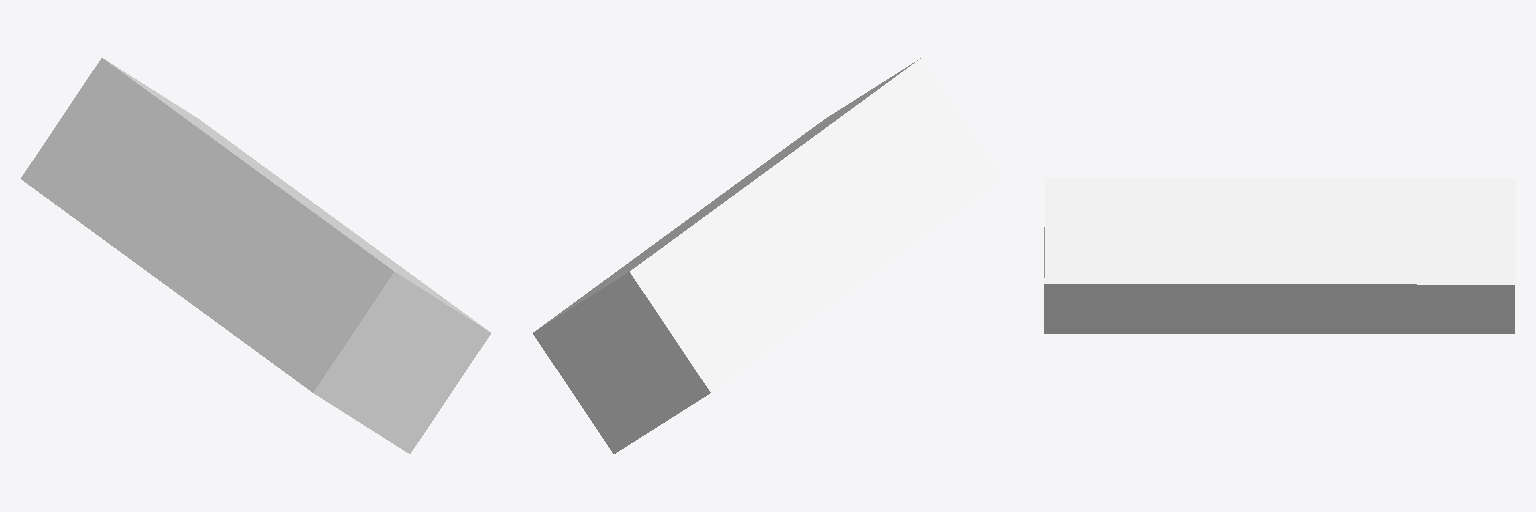
URDF robot description (mobile_manipulator2):
<?xml version="1.0" ?>
<!-- =================================================================================== -->
<!-- |    This document was autogenerated by xacro from urdf/mobile_manipulator2_description.xacro | -->
<!-- |    EDITING THIS FILE BY HAND IS NOT RECOMMENDED                                 | -->
<!-- =================================================================================== -->
<robot name="mobile_manipulator2">
  <link name="base_link">
    <inertial>
      <origin rpy="0 0 0" xyz="-0.0312209606413168 -1.37168643094102E-05 -0.0624311561488474"/>
      <mass value="3.66600808570302"/>
      <inertia ixx="0.070830972506108" ixy="0.000423733904503755" ixz="-0.0004402307499561" iyy="0.0538747474413543" iyz="0.000250637811260168" izz="0.118808674602765"/>
    </inertial>
    <visual>
      <origin rpy="0 0 0" xyz="0 0 0"/>
      <geometry>
        <mesh filename="package://mobile_manipulator2_description/meshes/visual/chassis_base_link.STL"/>
      </geometry>
      <material name="">
        <color rgba="1 1 1 1"/>
      </material>
    </visual>
    <collision>
      <origin rpy="0 0 0" xyz="0 0 0"/>
      <geometry>
        <mesh filename="package://mobile_manipulator2_description/meshes/collision/chassis_base_link_collision.STL"/>
      </geometry>
    </collision>
  </link>
  <link name="box_link">
    <inertial>
      <origin rpy="0 0 0" xyz="-0.0336792278049677 -0.00458080590131121 0.046046222818299"/>
      <mass value="1.96086062558564"/>
      <inertia ixx="0.00861532872920901" ixy="-0.000126429659448238" ixz="-4.57098901476866E-05" iyy="0.0243467421162108" iyz="-2.86453497285015E-05" izz="0.0322309365376531"/>
    </inertial>
    <visual>
      <origin rpy="0 0 0" xyz="0 0 0"/>
      <geometry>
        <mesh filename="package://mobile_manipulator2_description/meshes/visual/box_link.STL"/>
      </geometry>
      <material name="">
        <color rgba="1 1 1 1"/>
      </material>
    </visual>
    <collision>
      <origin rpy="0 0 0" xyz="0 0 0"/>
      <geometry>
        <mesh filename="package://mobile_manipulator2_description/meshes/collision/box_link_collision.STL"/>
      </geometry>
    </collision>
  </link>
  <joint name="box_joint" type="fixed">
    <origin rpy="0 0 0" xyz="0 0 0"/>
    <parent link="base_link"/>
    <child link="box_link"/>
    <axis xyz="0 0 0"/>
  </joint>
  <link name="lifting_link">
    <inertial>
      <origin rpy="0 0 0" xyz="-0.0645758262218638 3.1034672673273E-05 0.590832686497018"/>
      <mass value="1.28345031134681"/>
      <inertia ixx="0.0137761443631695" ixy="-2.91078208048479E-07" ixz="-0.000720021739199037" iyy="0.00882953168919407" iyz="7.87382666162099E-08" izz="0.00591609424737705"/>
    </inertial>
    <visual>
      <origin rpy="0 0 0" xyz="0 0 0"/>
      <geometry>
        <mesh filename="package://mobile_manipulator2_description/meshes/visual/lifting_link.STL"/>
      </geometry>
      <material name="">
        <color rgba="0.792156862745098 0.819607843137255 0.933333333333333 1"/>
      </material>
    </visual>
    <collision>
      <origin rpy="0 0 0" xyz="0 0 0"/>
      <geometry>
        <mesh filename="package://mobile_manipulator2_description/meshes/collision/lifting_link_collision.STL"/>
      </geometry>
    </collision>
  </link>
  <joint name="lifting_joint" type="fixed">
    <origin rpy="0 0 0" xyz="-0.24269 0 0.022"/>
    <parent link="box_link"/>
    <child link="lifting_link"/>
    <axis xyz="0 0 0"/>
  </joint>
  <link name="top_camera_link">
    <inertial>
      <origin rpy="0 0 0" xyz="0.0081944 0.00022525 0.00024018"/>
      <mass value="0.028999"/>
      <inertia ixx="3.8589E-05" ixy="-1.3619E-08" ixz="-2.6151E-08" iyy="3.7635E-06" iyz="2.7688E-08" izz="3.7044E-05"/>
    </inertial>
    <visual>
      <origin rpy="0 0 0" xyz="0 0 0"/>
      <geometry>
        <mesh filename="package://mobile_manipulator2_description/meshes/visual/top_camera_link.STL"/>
      </geometry>
      <material name="">
        <color rgba="1 1 1 1"/>
      </material>
    </visual>
    <collision>
      <origin rpy="0 0 0" xyz="0 0 0"/>
      <geometry>
        <mesh filename="package://mobile_manipulator2_description/meshes/collision/top_camera_link_collision.STL"/>
      </geometry>
    </collision>
  </link>
  <joint name="top_camera_joint" type="fixed">
    <origin rpy="0 0 0" xyz="0.056999999999981 0 0.569500339851353"/>
    <parent link="lifting_link"/>
    <child link="top_camera_link"/>
    <axis xyz="0 0 0"/>
  </joint>
  <link name="lidar_link">
    <inertial>
      <origin rpy="0 0 0" xyz="-0.010562 -0.00043095 0.033917"/>
      <mass value="0.11388"/>
      <inertia ixx="0.0001253" ixy="1.1158E-07" ixz="3.3459E-07" iyy="0.00012408" iyz="-2.6657E-08" izz="0.00019563"/>
    </inertial>
    <visual>
      <origin rpy="0 0 0" xyz="0 0 0"/>
      <geometry>
        <mesh filename="package://mobile_manipulator2_description/meshes/visual/lidar_link.STL"/>
      </geometry>
      <material name="">
        <color rgba="0.78824 0.81961 0.92941 1"/>
      </material>
    </visual>
    <collision>
      <origin rpy="0 0 0" xyz="0 0 0"/>
      <geometry>
        <mesh filename="package://mobile_manipulator2_description/meshes/collision/lidar_link_collision.STL"/>
      </geometry>
    </collision>
  </link>
  <joint name="lidar_joint" type="fixed">
    <origin rpy="0 0 0" xyz="0.27254 0.00035292 0.0315"/>
    <parent link="base_link"/>
    <child link="lidar_link"/>
    <axis xyz="0 0 0"/>
  </joint>
  <link name="chassis_camera_link">
    <inertial>
      <origin rpy="0 0 0" xyz="0.0088456 0.00020043 0.1203575"/>
      <mass value="0.055353"/>
      <inertia ixx="4.2284E-05" ixy="2.4484E-07" ixz="-6.627E-08" iyy="4.8492E-06" iyz="-2.9109E-09" izz="4.2122E-05"/>
    </inertial>
    <visual>
      <origin rpy="0 0 0" xyz="0 0 0"/>
      <geometry>
        <mesh filename="package://mobile_manipulator2_description/meshes/visual/chassis_camera_link.STL"/>
      </geometry>
      <material name="">
        <color rgba="1 1 1 1"/>
      </material>
    </visual>
    <collision>
      <origin rpy="0 0 0" xyz="0 0 0"/>
      <geometry>
        <mesh filename="package://mobile_manipulator2_description/meshes/collision/chassis_camera_link_collision.STL"/>
      </geometry>
    </collision>
  </link>
  <joint name="chassis_camera_joint" type="fixed">
    <origin rpy="0 0 0" xyz="0.025 0 0.1"/>
    <parent link="lidar_link"/>
    <child link="chassis_camera_link"/>
    <axis xyz="0 0 0"/>
  </joint>
  <link name="arm_base">
    <inertial>
      <origin rpy="0 0 0" xyz="-0.00979274765955341 1.82905827587138E-06 0.0410100126360189"/>
      <mass value="0.162548567403693"/>
      <inertia ixx="0.000226596924525071" ixy="-7.33972270153965E-08" ixz="2.13249977802622E-06" iyy="0.000269444772561524" iyz="8.15169009611054E-09" izz="0.000222318258878636"/>
    </inertial>
    <visual>
      <origin rpy="0 0 0" xyz="0 0 0"/>
      <geometry>
        <mesh filename="package://mobile_manipulator2_description/meshes/visual/dae/piper_base_link.dae"/>
      </geometry>
      <material name="">
        <color rgba="0.792156862745098 0.819607843137255 0.933333333333333 1"/>
      </material>
    </visual>
    <collision>
      <origin rpy="0 0 0" xyz="0 0 0"/>
      <geometry>
        <mesh filename="package://mobile_manipulator2_description/meshes/collision/piper_base_link_collision.STL"/>
      </geometry>
    </collision>
  </link>
  <link name="link1">
    <inertial>
      <origin rpy="0 0 0" xyz="0.00131676031927024 0.000310288842008612 -0.00922874512303437"/>
      <mass value="0.0978679932242825"/>
      <inertia ixx="7.76684558296782E-05" ixy="1.09084650459924E-07" ixz="-1.9748053243241E-06" iyy="9.24967780161547E-05" iyz="9.91284646834582E-07" izz="8.24589062407807E-05"/>
    </inertial>
    <visual>
      <origin rpy="0 0 0" xyz="0 0 0"/>
      <geometry>
        <mesh filename="package://mobile_manipulator2_description/meshes/visual/dae/piper_link1.dae"/>
      </geometry>
      <material name="">
        <color rgba="0.792156862745098 0.819607843137255 0.933333333333333 1"/>
      </material>
    </visual>
    <collision>
      <origin rpy="0 0 1.5708" xyz="0 0 0"/>
      <geometry>
        <mesh filename="package://mobile_manipulator2_description/meshes/collision/piper_link1_collision.STL"/>
      </geometry>
    </collision>
  </link>
  <joint name="joint1" type="revolute">
    <origin rpy="0 0 -1.5708" xyz="0 0 0.123"/>
    <parent link="arm_base"/>
    <child link="link1"/>
    <axis xyz="0 0 1"/>
    <limit effort="100" lower="-2.687" upper="2.687" velocity="3.142"/>
  </joint>
  <link name="link2">
    <inertial>
      <origin rpy="0 0 0" xyz="0.148793602378802 -0.00242026983944119 0.00175154638467948"/>
      <mass value="0.290888938633388"/>
      <inertia ixx="0.000148959640166183" ixy="-7.37750384371657E-05" ixz="-9.68688405196236E-07" iyy="0.00172800946632652" iyz="-1.09692225564224E-06" izz="0.0017754628344594"/>
    </inertial>
    <visual>
      <origin rpy="0 0 0" xyz="0 0 0"/>
      <geometry>
        <mesh filename="package://mobile_manipulator2_description/meshes/visual/dae/piper_link2.dae"/>
      </geometry>
      <material name="">
        <color rgba="0.792156862745098 0.819607843137255 0.933333333333333 1"/>
      </material>
    </visual>
    <collision>
      <origin rpy="0 0 0.1" xyz="0 0 0"/>
      <geometry>
        <mesh filename="package://mobile_manipulator2_description/meshes/collision/piper_link2_collision.STL"/>
      </geometry>
    </collision>
  </link>
  <joint name="joint2" type="revolute">
    <origin rpy="1.5708 -0.034907 -1.5708" xyz="0 0 0"/>
    <parent link="link1"/>
    <child link="link2"/>
    <axis xyz="0 0 1"/>
    <limit effort="100" lower="0" upper="3.403" velocity="3.403"/>
  </joint>
  <link name="link3">
    <inertial>
      <origin rpy="0 0 0" xyz="-0.0996835215213704 0.0349477226691318 0.000508025815507312"/>
      <mass value="0.290847697793211"/>
      <inertia ixx="0.000107879011637167" ixy="2.92669521203626E-05" ixz="6.825922326238E-07" iyy="0.000214751671792086" iyz="-7.78469047878196E-07" izz="0.000241923439340319"/>
    </inertial>
    <visual>
      <origin rpy="0 0 0" xyz="0 0 0"/>
      <geometry>
        <mesh filename="package://mobile_manipulator2_description/meshes/visual/dae/piper_link3.dae"/>
      </geometry>
      <material name="">
        <color rgba="0.792156862745098 0.819607843137255 0.933333333333333 1"/>
      </material>
    </visual>
    <collision>
      <origin rpy="0 0 -1.75" xyz="0 0 0"/>
      <geometry>
        <mesh filename="package://mobile_manipulator2_description/meshes/collision/piper_link3_collision.STL"/>
      </geometry>
    </collision>
  </link>
  <joint name="joint3" type="revolute">
    <origin rpy="0 0 0.06604341" xyz="0.28358 0.028726 0"/>
    <parent link="link2"/>
    <child link="link3"/>
    <axis xyz="0 0 1"/>
    <limit effort="100" lower="-3.054" upper="0" velocity="3.142"/>
  </joint>
  <link name="link4">
    <inertial>
      <origin rpy="0 0 0" xyz="0.000276464622387979 -0.00102803669324875 -0.00472830700561663"/>
      <mass value="0.127087348341362"/>
      <inertia ixx="3.82011730423416E-05" ixy="-4.92358350897513E-08" ixz="4.89589432973119E-08" iyy="4.87048555222578E-05" iyz="6.70802942500512E-08" izz="4.10592077565559E-05"/>
    </inertial>
    <visual>
      <origin rpy="0 0 0" xyz="0 0 0"/>
      <geometry>
        <mesh filename="package://mobile_manipulator2_description/meshes/visual/dae/piper_link4.dae"/>
      </geometry>
      <material name="">
        <color rgba="0.792156862745098 0.819607843137255 0.933333333333333 1"/>
      </material>
    </visual>
    <collision>
      <origin rpy="0 0 0" xyz="0 0 0"/>
      <geometry>
        <mesh filename="package://mobile_manipulator2_description/meshes/collision/piper_link4_collision.STL"/>
      </geometry>
    </collision>
  </link>
  <joint name="joint4" type="revolute">
    <origin rpy="-1.5708 0 1.3826" xyz="-0.24221 0.068514 0"/>
    <parent link="link3"/>
    <child link="link4"/>
    <axis xyz="0 0 1"/>
    <limit effort="100" lower="-1.780" upper="1.780" velocity="3.927"/>
  </joint>
  <link name="link5">
    <inertial>
      <origin rpy="0 0 0" xyz="8.82262433516967E-05 0.0566829014808256 -0.00196119720482461"/>
      <mass value="0.144711242639457"/>
      <inertia ixx="4.39644313662493E-05" ixy="-3.59259686444846E-08" ixz="-1.89747741386183E-08" iyy="5.63173920951307E-05" iyz="-2.1540716689785E-07" izz="4.88713664675268E-05"/>
    </inertial>
    <visual>
      <origin rpy="0 0 0" xyz="0 0 0"/>
      <geometry>
        <mesh filename="package://mobile_manipulator2_description/meshes/visual/dae/piper_link5.dae"/>
      </geometry>
      <material name="">
        <color rgba="0.792156862745098 0.819607843137255 0.933333333333333 1"/>
      </material>
    </visual>
    <collision>
      <origin rpy="0 0 -3.14" xyz="0 0 0"/>
      <geometry>
        <mesh filename="package://mobile_manipulator2_description/meshes/collision/piper_link5_collision.STL"/>
      </geometry>
    </collision>
  </link>
  <joint name="joint5" type="revolute">
    <origin rpy="1.5708 0 0" xyz="0 0 0"/>
    <parent link="link4"/>
    <child link="link5"/>
    <axis xyz="0 0 1"/>
    <limit effort="100" lower="-1.309" upper="1.309" velocity="3.927"/>
  </joint>
  <link name="link6">
    <inertial>
      <origin rpy="0 0 0" xyz="0.00103120214523473 0.0121761387587524 0.0315480874960164"/>
      <mass value="0.195187143240719"/>
      <inertia ixx="6.43790256535539E-05" ixy="-1.2366166157046E-06" ixz="1.97664606328472E-07" iyy="0.000126146396374301" iyz="2.41157078516408E-06" izz="0.000154087076816444"/>
    </inertial>
    <visual>
      <origin rpy="-1.57 0 0" xyz="-0.002 -0.008 0"/>
      <geometry>
        <mesh filename="package://mobile_manipulator2_description/meshes/visual/dae/piper_camera_v3.dae"/>
      </geometry>
      <material name="">
        <color rgba="0.792156862745098 0.819607843137255 0.933333333333333 1"/>
      </material>
    </visual>
    <collision>
      <origin rpy="-1.57 0 0" xyz="-0.002 -0.008 0"/>
      <geometry>
        <mesh filename="package://mobile_manipulator2_description/meshes/visual/dae/piper_camera_v3.dae"/>
      </geometry>
    </collision>
  </link>
  <joint name="joint6" type="revolute">
    <origin rpy="-1.5708 -1.5708 0" xyz="0 0.091 0.0014165"/>
    <parent link="link5"/>
    <child link="link6"/>
    <axis xyz="0 0 1"/>
    <limit effort="100" lower="-2.094" upper="2.094" velocity="3.927"/>
  </joint>
  <link name="link7">
    <inertial>
      <origin rpy="0 0 0" xyz="-0.000277778383727112 -0.0467673043650824 -0.00921029491873201"/>
      <mass value="0.02648229234527"/>
      <inertia ixx="9.99787479924589E-06" ixy="-1.57548495096104E-07" ixz="-2.71342775003487E-08" iyy="6.1795212293655E-06" iyz="-1.58939803580081E-06" izz="1.42102717246564E-05"/>
    </inertial>
    <visual>
      <origin rpy="0 0 0" xyz="0 0 0"/>
      <geometry>
        <mesh filename="package://mobile_manipulator2_description/meshes/visual/dae/piper_link7.dae"/>
      </geometry>
      <material name="">
        <color rgba="0.792156862745098 0.819607843137255 0.933333333333333 1"/>
      </material>
    </visual>
    <collision>
      <origin rpy="0 3.14 0" xyz="-0.001 0 0.0003"/>
      <geometry>
        <mesh filename="package://mobile_manipulator2_description/meshes/collision/piper_link7_collision.STL"/>
      </geometry>
    </collision>
  </link>
  <joint name="joint7" type="prismatic">
    <origin rpy="1.5708 0 1.5708" xyz="0 0 0.13503"/>
    <parent link="link6"/>
    <child link="link7"/>
    <axis xyz="0 0 -1"/>
    <limit effort="10" lower="0" upper="0.05" velocity="1"/>
  </joint>
  <link name="link8">
    <inertial>
      <origin rpy="0 0 0" xyz="0.000277816920932317 0.0467673824063769 -0.00921030054508036"/>
      <mass value="0.0264822021416248"/>
      <inertia ixx="9.99779119357223E-06" ixy="-1.57542283433504E-07" ixz="2.71367446701359E-08" iyy="6.17952441557932E-06" iyz="1.58939319453383E-06" izz="1.4210192754512E-05"/>
    </inertial>
    <visual>
      <origin rpy="0 0 0" xyz="0 0 0"/>
      <geometry>
        <mesh filename="package://mobile_manipulator2_description/meshes/visual/dae/piper_link8.dae"/>
      </geometry>
      <material name="">
        <color rgba="0.792156862745098 0.819607843137255 0.933333333333333 1"/>
      </material>
    </visual>
    <collision>
      <origin rpy="3.14 0 0" xyz="-0.001 0 0.0003"/>
      <geometry>
        <mesh filename="package://mobile_manipulator2_description/meshes/collision/piper_link8_collision.STL"/>
      </geometry>
    </collision>
  </link>
  <joint name="joint8" type="prismatic">
    <origin rpy="-1.5708 0 1.5708" xyz="0 0 0.13503"/>
    <parent link="link6"/>
    <child link="link8"/>
    <axis xyz="0 0 1"/>
    <limit effort="10" lower="-0.05" upper="0" velocity="1"/>
  </joint>
  <!-- Joint to connect the arm to the mobile base -->
  <joint name="arm_joint" type="fixed">
    <origin rpy="0.0 0.0 0.0" xyz="0.118 0 0.1"/>
    <parent link="box_link"/>
    <child link="arm_base"/>
    <axis xyz="0.0 0.0 0.0"/>
    <limit effort="0.0" lower="0.0" upper="0.0" velocity="0.0"/>
  </joint>
  
  <!-- Hand camera link for sensor simulation -->
  <link name="hand_camera_link">
    <inertial>
      <origin xyz="0.0009804 0.025556 -0.036977" rpy="0 0 0" />
      <mass value="0.0067926" />
      <inertia 
        ixx="3.7811E-05"
        ixy="2.2861E-18"
        ixz="2.2446E-19"
        iyy="9.4061E-05"
        iyz="6.1172E-06"
        izz="0.00012345" />
    </inertial>
    <visual>
      <origin xyz="0 0 0" rpy="0 0 0" />
      <geometry>
        <box size="0.02 0.08 0.02"/>
      </geometry>
      <material name="">
        <color rgba="1 1 1 1" />
      </material>
    </visual>
    <collision>
      <origin xyz="0 0 0" rpy="0 0 0" />
      <geometry>
        <mesh filename="package://mobile_manipulator2_description/meshes/collision/hand_camera_collision.STL"/>
      </geometry>
    </collision>
  </link>

<joint
    name="hand_camera_joint"
    type="fixed">
    <origin
      xyz="0.0 0.075 0.03"
      rpy="0.000000  -0.7855105 -1.571021" />
    <parent
      link="link6" />
    <child
      link="hand_camera_link" />
    <axis
      xyz="0 0 0" />
  </joint>



</robot>

--- What the picture shows (computed from the rendered views, not written in the file) ---
The picture shows the robot from 3 angles, left to right: view 1: azimuth 30°, elevation 25°; view 2: azimuth 150°, elevation 25°; view 3: azimuth 270°, elevation 25°; orthographic projection.
Robot: mobile_manipulator2 — 16 links, 15 joints (6 revolute, 2 prismatic, 7 fixed); root link base_link; default pose: every joint at zero.
Links seen in each view (by area): view 1: hand_camera_link; view 2: hand_camera_link; view 3: hand_camera_link.
Link boxes in pixels (<box>): hand_camera_link: <box>21,58,490,453</box>; hand_camera_link: <box>533,58,1002,453</box>; hand_camera_link: <box>1044,178,1515,333</box>.
Bounding box of the posed robot: 0.0282 × 0.08 × 0.0282 m (x, y, z).
Meshes: 15 distinct files referenced, 0 mesh visuals loaded (none loaded); not drawn: 15 (reference not matched to a file when rendering).